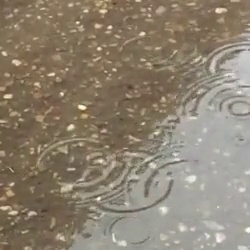drop: (40, 136, 125, 206), (89, 148, 171, 213), (176, 72, 250, 123), (207, 42, 250, 88), (119, 35, 172, 64), (110, 215, 150, 246), (85, 151, 110, 170)
